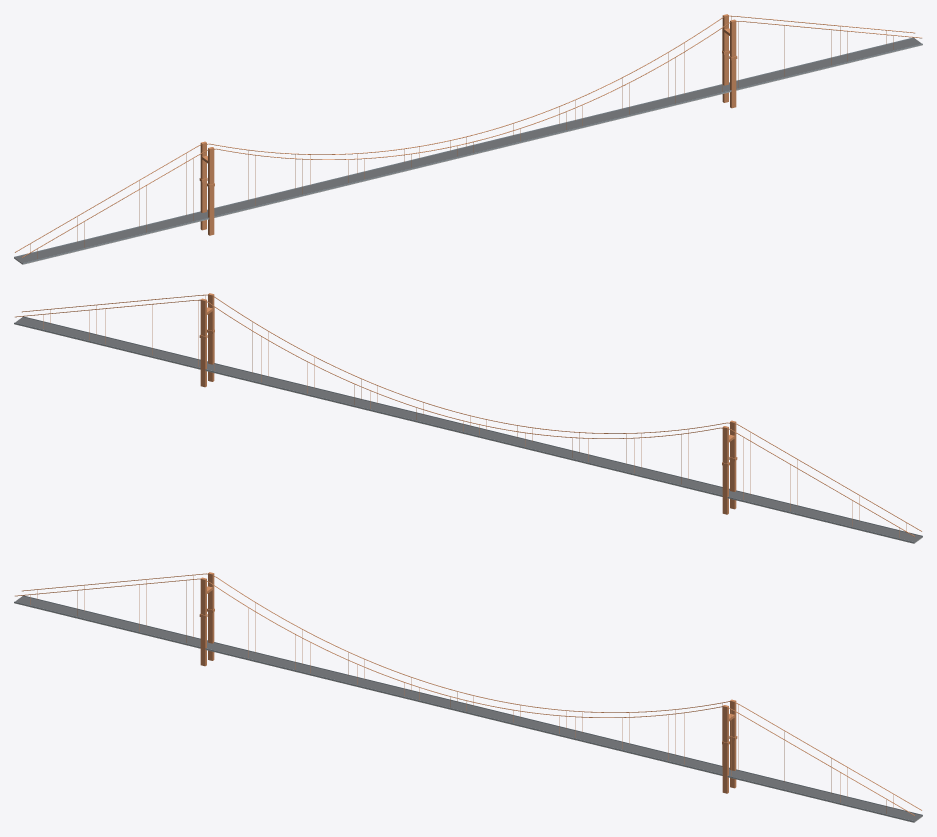
The picture shows the model from 3 angles, top to bottom: view 1: azimuth 30°, elevation 25°; view 2: azimuth 150°, elevation 25°; view 3: azimuth 330°, elevation 25°; orthographic projection.
Visible parts, largest first — view 1: worldgen; view 2: worldgen; view 3: worldgen.
Part boxes in pixels (x1=…): worldgen: x1=14, y1=14, x2=922, y2=264; worldgen: x1=14, y1=293, x2=922, y2=543; worldgen: x1=14, y1=572, x2=922, y2=822.
Bounding box in the file's own units: 1850 × 170 × 34.11.
